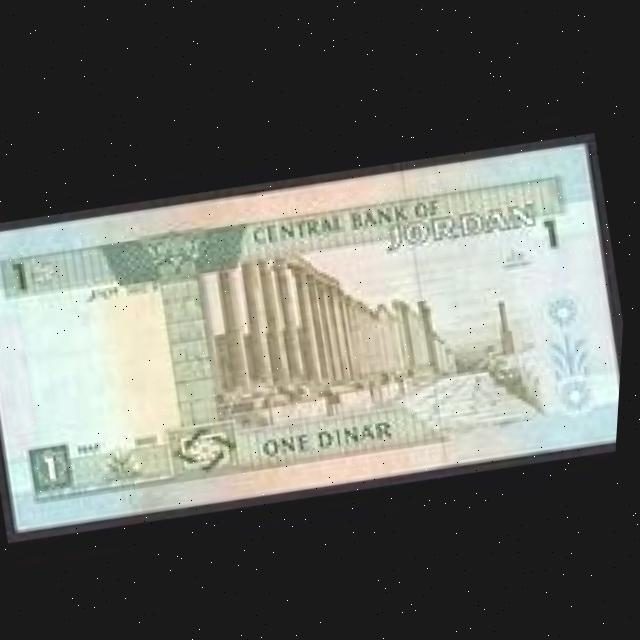banknote: (0, 95, 636, 565)
